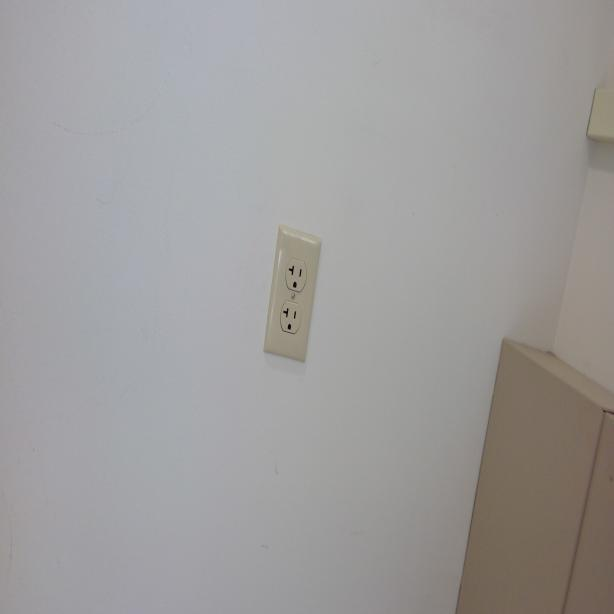typeb: (286, 256, 306, 294), (282, 300, 302, 334)
